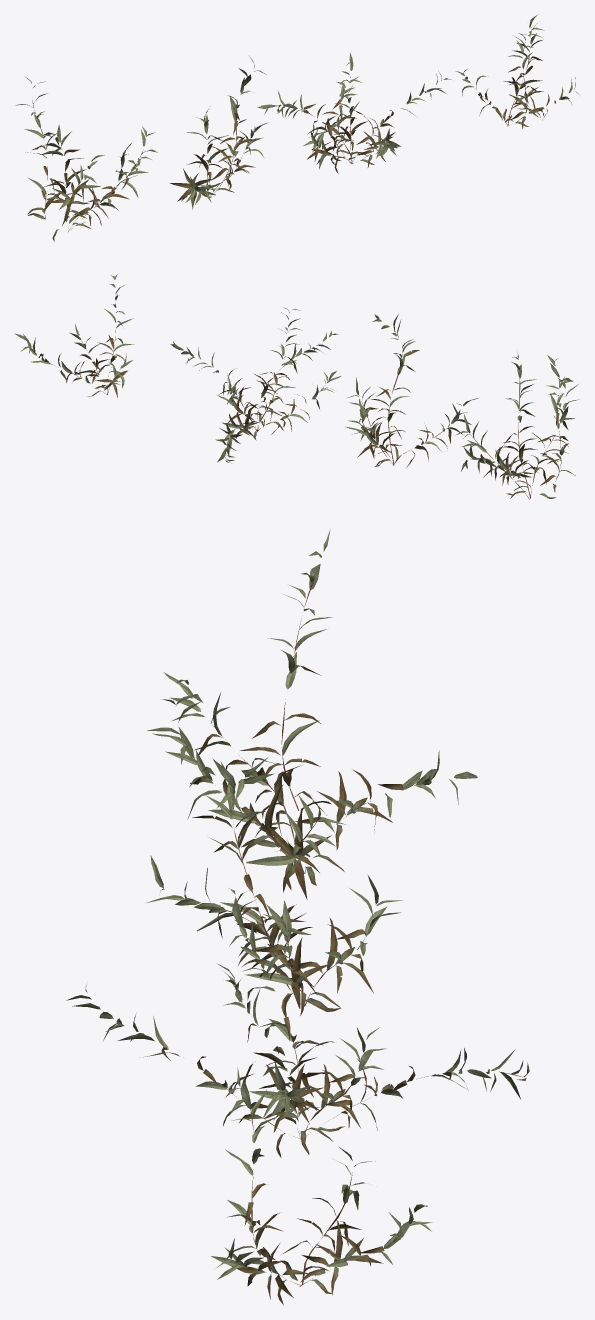
File: m_shrub_02.73da0e6c3b.glb
The picture shows the model from 3 angles, top to bottom: view 1: azimuth 30°, elevation 25°; view 2: azimuth 150°, elevation 25°; view 3: azimuth 270°, elevation 25°; orthographic projection. The views are drawn at different scales.
Parts seen in each view (by area): view 1: shrub_02_a; view 2: shrub_02_a; view 3: shrub_02_a.
Part boxes in pixels (x1=…): shrub_02_a: x1=15, y1=14, x2=579, y2=241; shrub_02_a: x1=14, y1=274, x2=578, y2=499; shrub_02_a: x1=66, y1=529, x2=529, y2=1305.
Bounding box in the file's own units: 6.05 × 1.7 × 2.28.
1 material, 1 textured.
